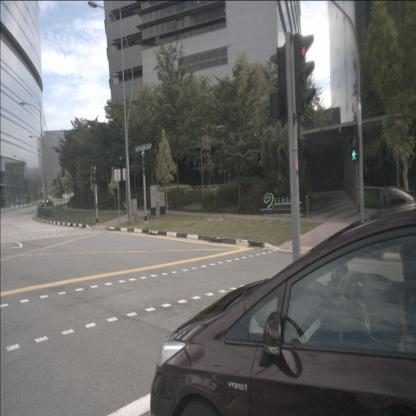vehicle-bicycle: (122, 199, 130, 214)
vehicle-car: (150, 185, 416, 415), (43, 195, 54, 206)
